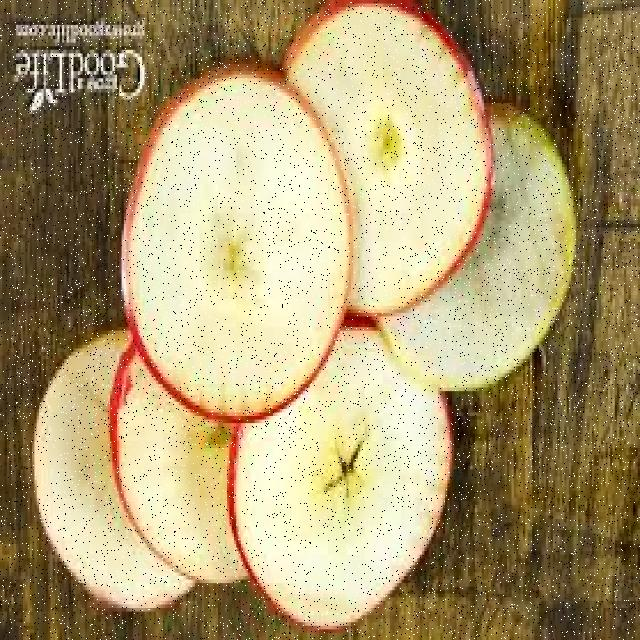Apple: (119, 53, 351, 422), (242, 344, 450, 633), (295, 0, 486, 312), (406, 90, 596, 396)
